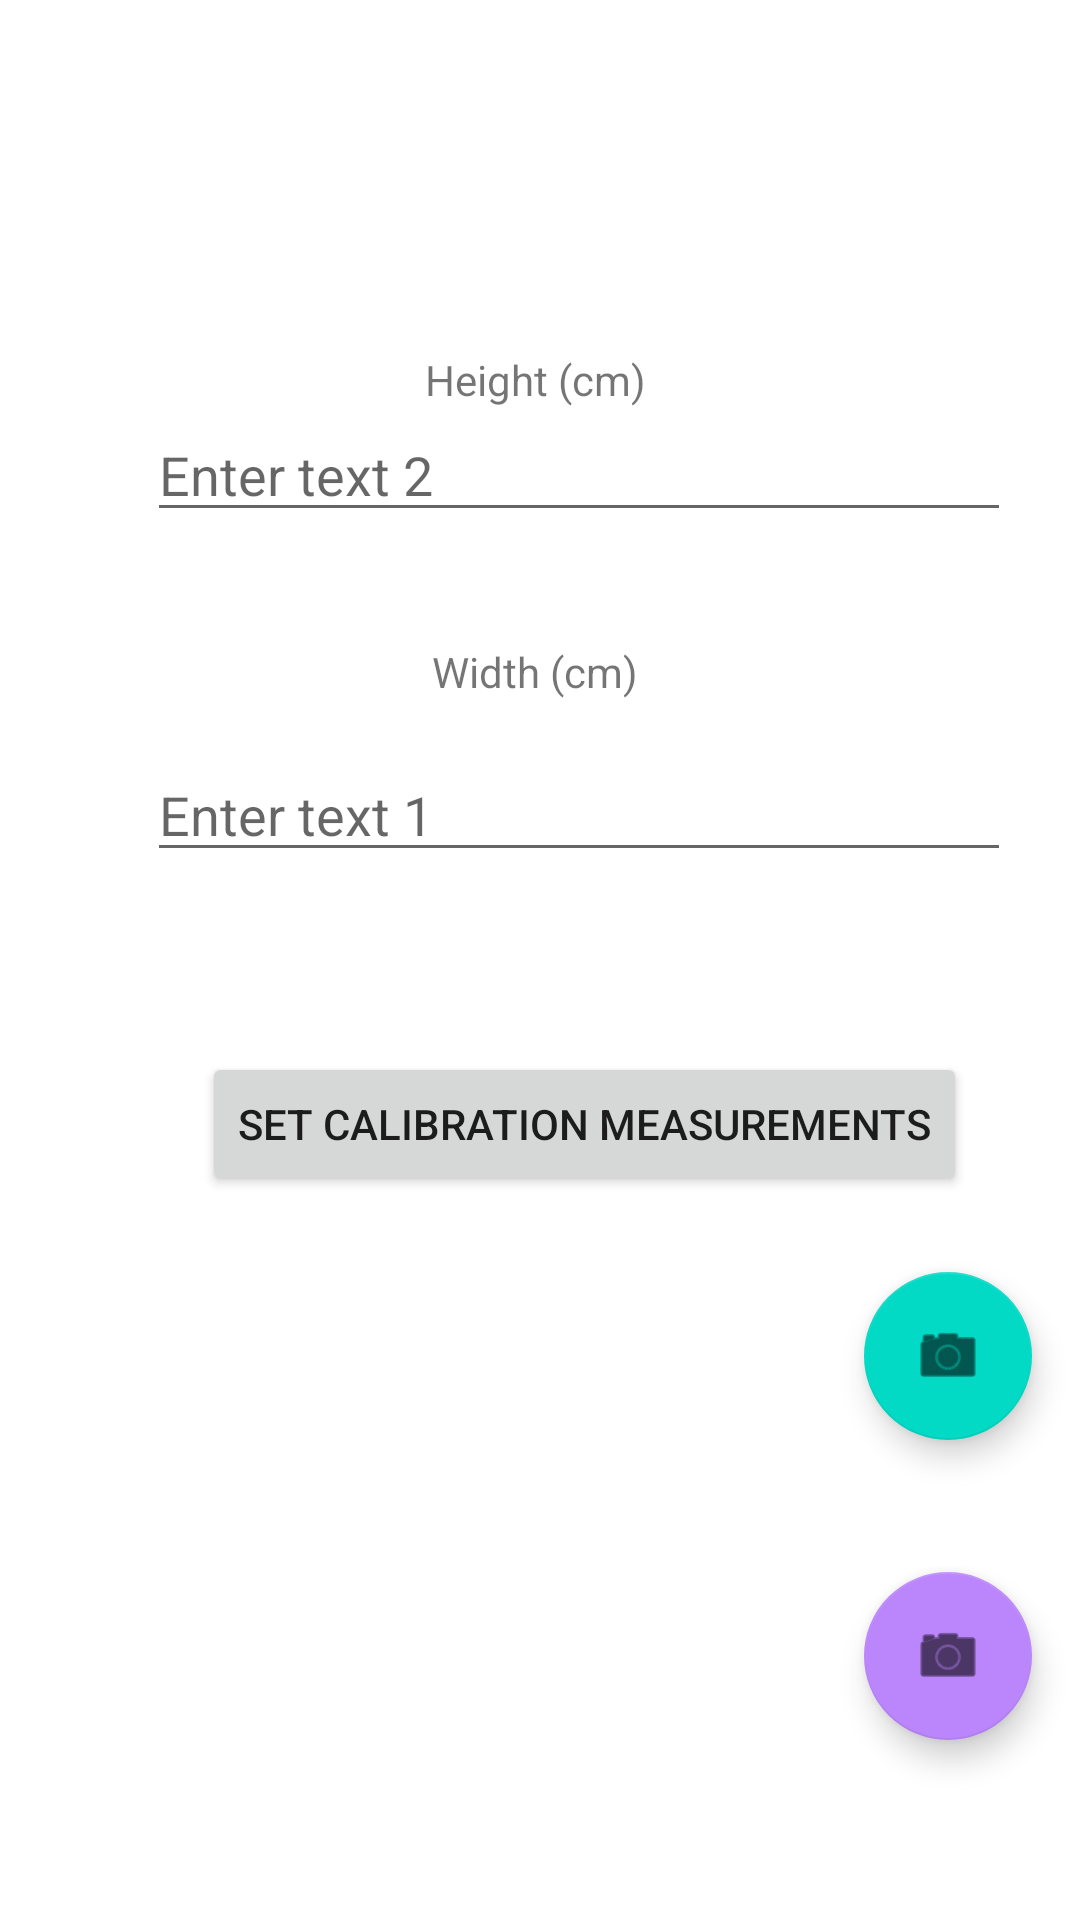

Icons on this 1080*1920 Android screen, each with the point to tap as (x,y):
camera: (948,1356), (948,1656)
